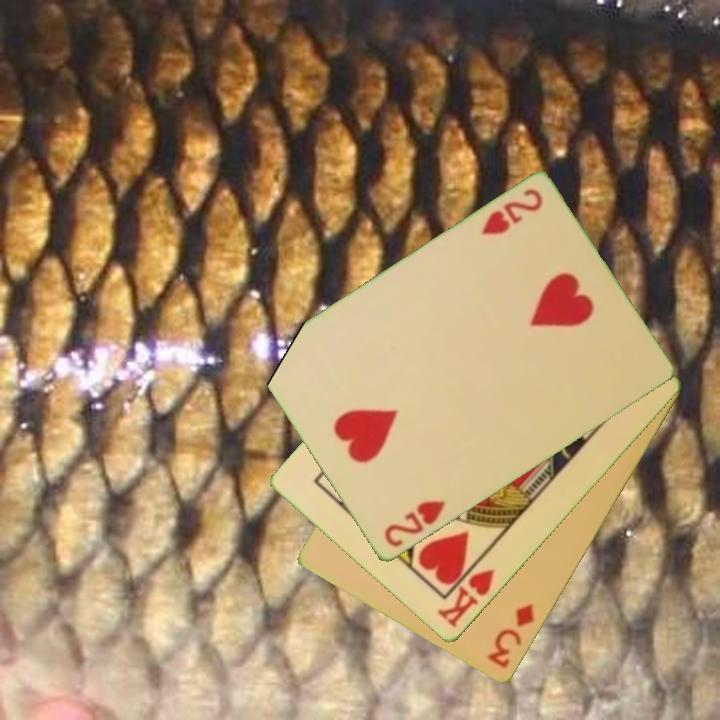2h: (476, 185, 546, 239), (380, 497, 449, 551)
3d: (483, 600, 538, 672)
Kh: (433, 553, 498, 631)
